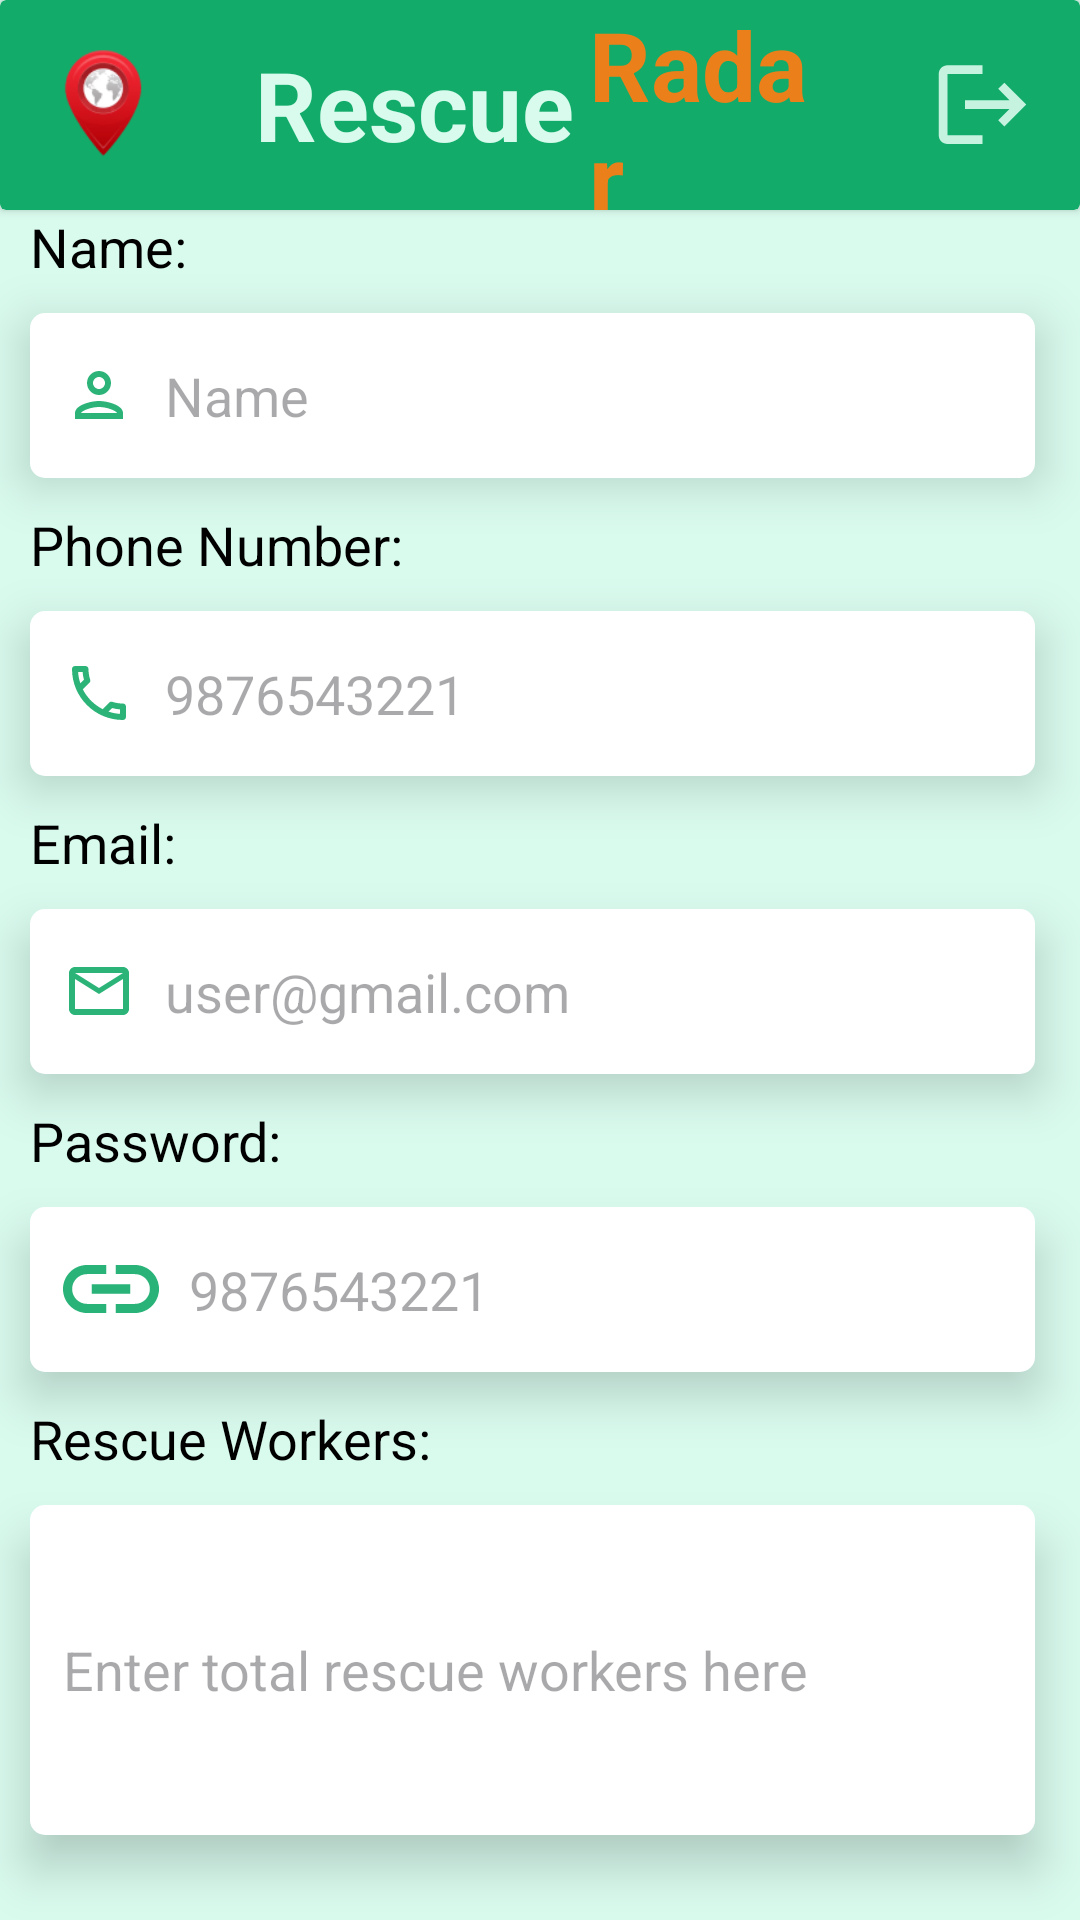

Icon bounding boxes for this 1080x1920 phone screenshot, format rect(x1, y1, x2, y2):
locimage: rect(65, 50, 142, 156)
